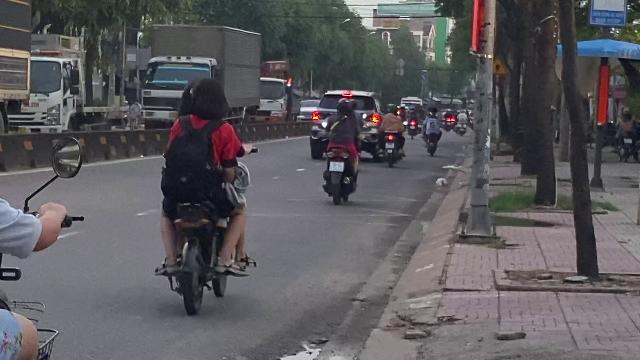motorcyclist: (150, 75, 260, 319)
nohelmet: (186, 76, 228, 120)
